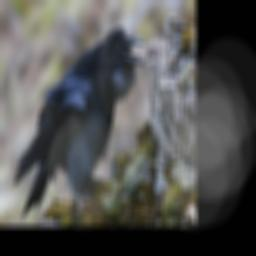Crow: (14, 25, 146, 221)
